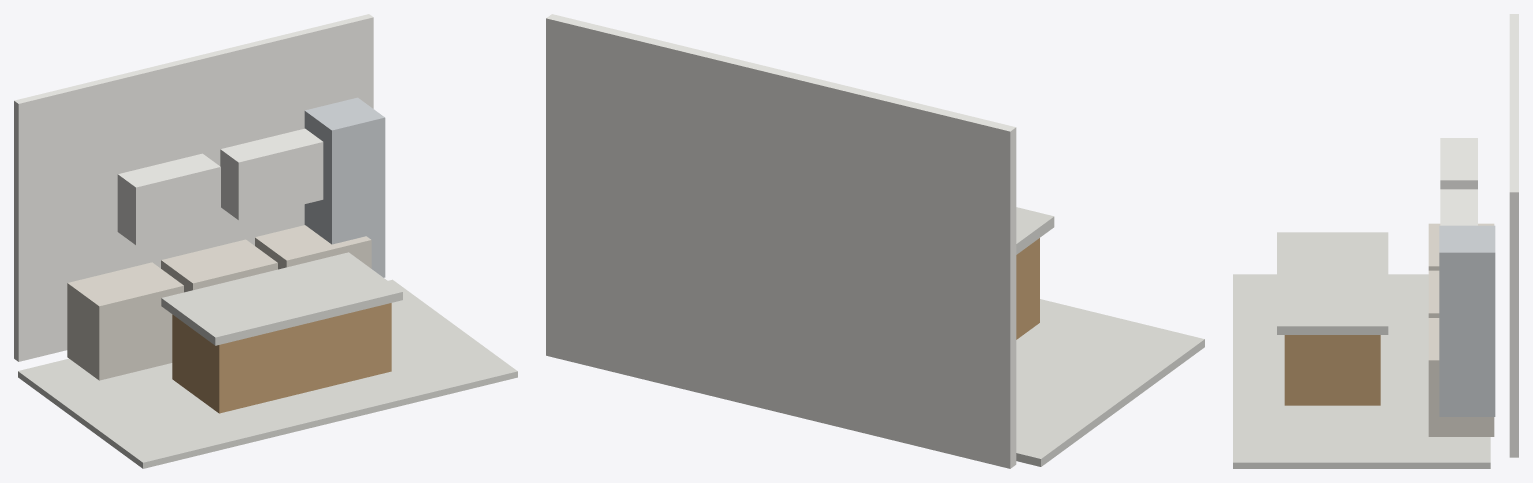
File: kitchen-layout-island-premium.gltf
3 renders of one model, left to right at view 1: azimuth 30°, elevation 25°; view 2: azimuth 150°, elevation 25°; view 3: azimuth 270°, elevation 25°, orthographic. The views are drawn at different scales.
Parts seen in each view (by area): view 1: kitchen-layout-island-premium; view 2: kitchen-layout-island-premium; view 3: kitchen-layout-island-premium.
Boxes of the visible parts, <box> form: kitchen-layout-island-premium: <box>14,14,517,468</box>; kitchen-layout-island-premium: <box>546,14,1204,468</box>; kitchen-layout-island-premium: <box>1233,14,1518,468</box>.
Size of the model in its own units: 3.8 by 2.56 by 2.44.
